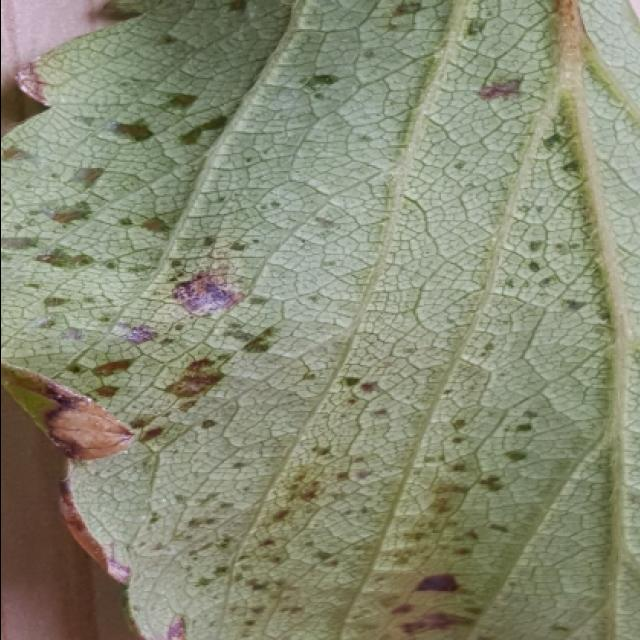Angular Leafspot: (2, 0, 615, 638)
